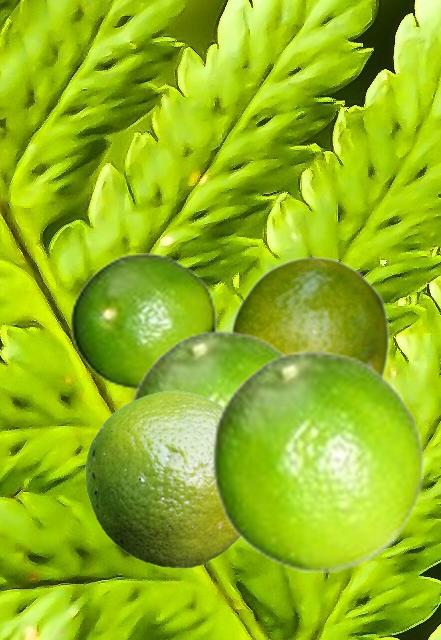calamansi: (211, 349, 425, 571), (85, 390, 238, 567), (69, 253, 234, 390), (231, 255, 389, 375), (129, 329, 289, 404)
